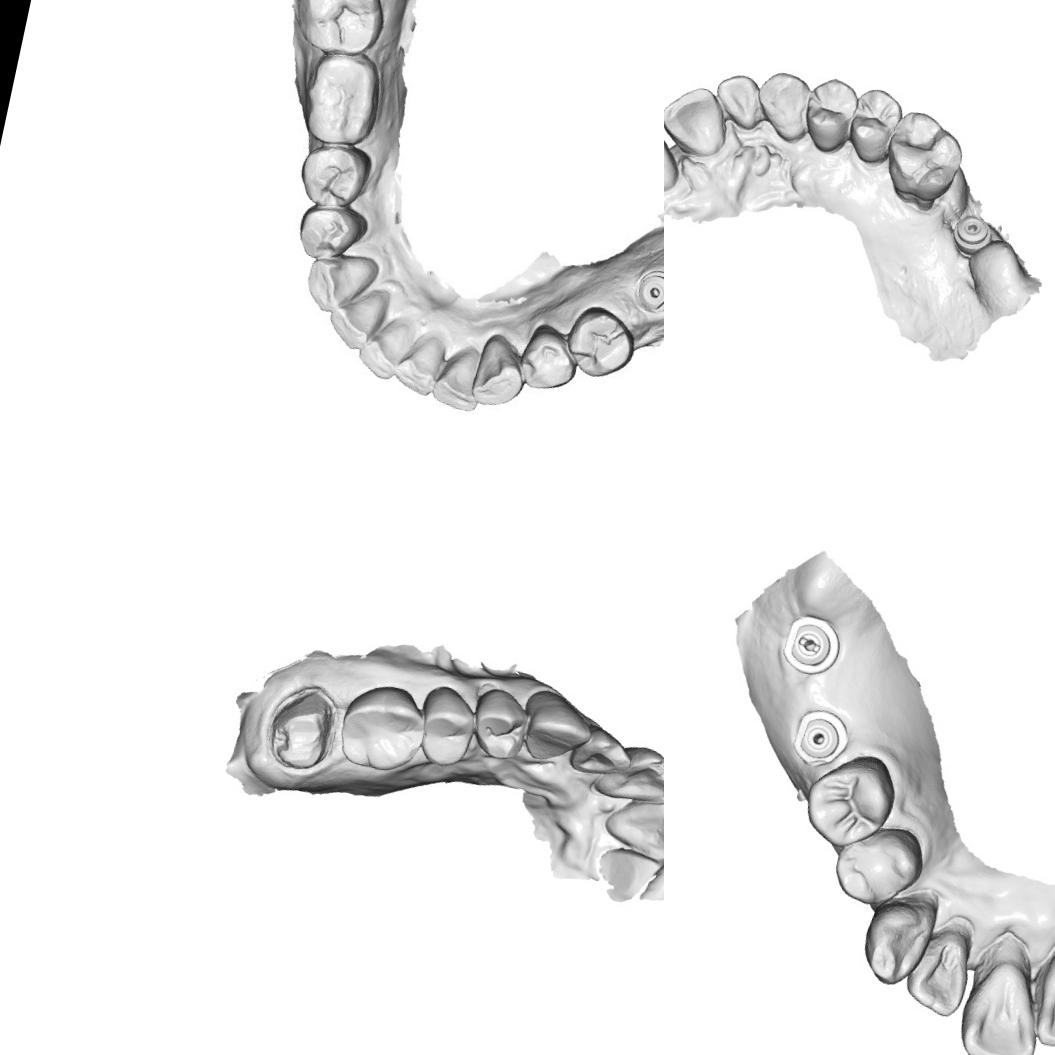canine: (855, 888, 936, 992), (514, 685, 600, 771), (300, 245, 382, 322), (747, 67, 823, 149), (466, 329, 532, 414)
crown: (257, 678, 347, 784)
implant: (788, 708, 850, 762), (946, 210, 996, 252), (630, 266, 664, 318)
implant_minus: (773, 614, 841, 680)
incisor: (954, 958, 1054, 1055), (900, 926, 981, 1022), (664, 77, 735, 161), (322, 278, 395, 358), (591, 737, 664, 814), (596, 788, 664, 865), (352, 314, 418, 385), (428, 341, 490, 414), (388, 327, 450, 400), (566, 722, 638, 784), (708, 67, 765, 132), (1031, 949, 1055, 1055), (664, 109, 686, 195)
molar: (874, 105, 972, 218), (294, 44, 390, 154), (332, 676, 434, 778), (289, 0, 393, 62)
premolar: (797, 748, 901, 857), (824, 816, 927, 916), (557, 300, 644, 385), (410, 680, 484, 772), (292, 136, 376, 216), (840, 83, 906, 170), (512, 320, 584, 398), (798, 70, 862, 157), (466, 684, 534, 764), (292, 200, 370, 267)
